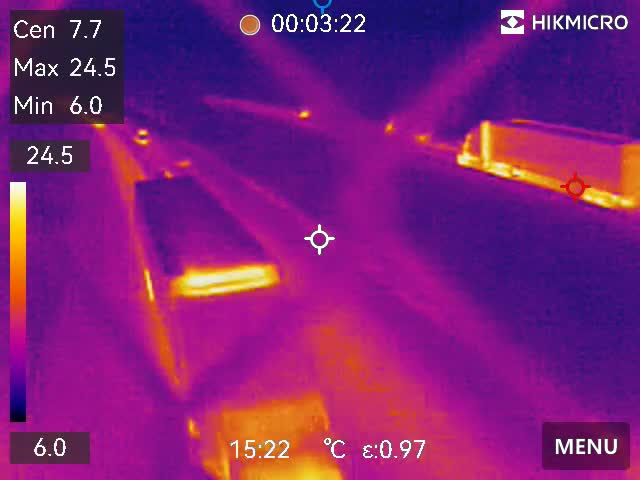heavyTruck: (127, 174, 357, 480), (441, 110, 640, 210)
